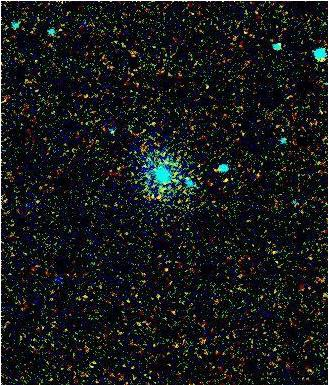star: (209, 163, 239, 193)
